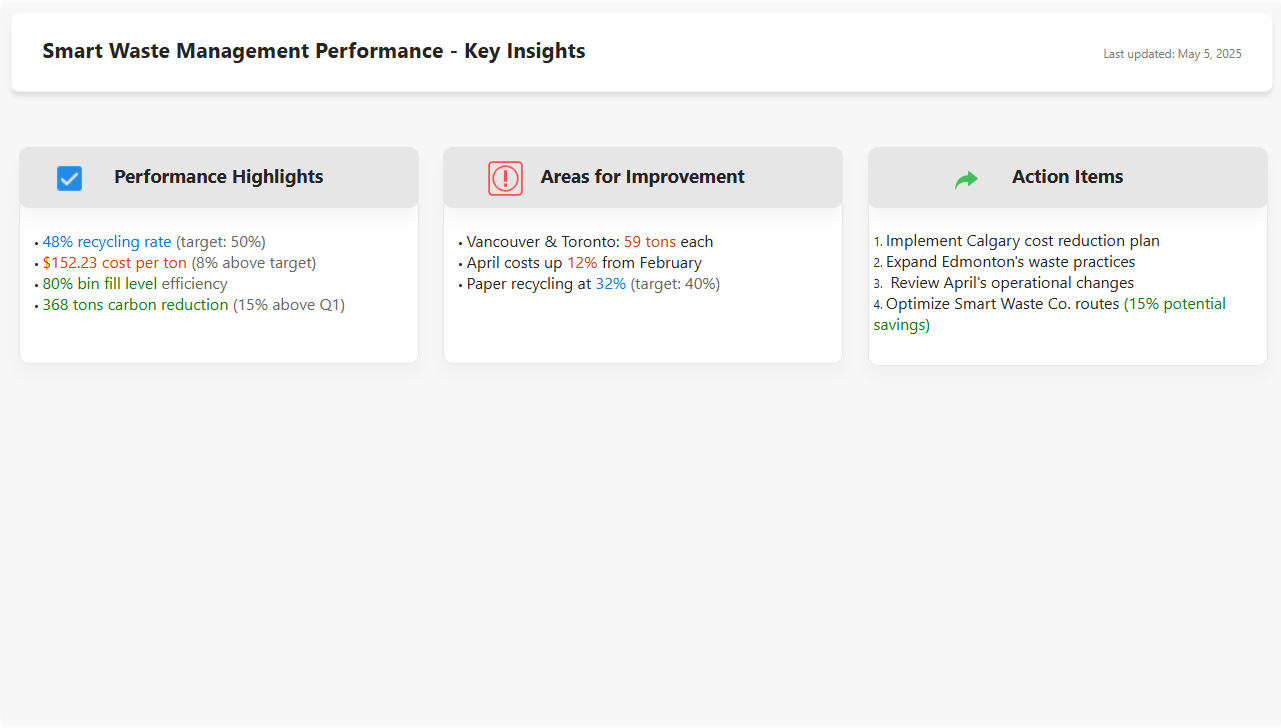

Layout of this report page (visuals, bound fields, positions):
{"tool":"powerbi","page":{"name":"Key Insights","canvas":[1280,720],"ordinal":1},"visuals":[{"type":"shape","box":[0,0,1280,97.1],"z":0},{"type":"textbox","box":[35.7,25.7,1230,47.1],"z":1000},{"type":"textbox","box":[17.1,193.3,400,167.1],"z":2000},{"type":"textbox","box":[441.4,193.3,400,167.1],"z":3000},{"type":"textbox","box":[865.7,191.9,400,170],"z":4000},{"type":"textbox","box":[17.1,142.9,400,61.4],"z":5000},{"type":"textbox","box":[865.7,142.9,400,61.4],"z":6000},{"type":"textbox","box":[441.4,142.9,400,61.4],"z":7000},{"type":"image","box":[920,155.7,90,37.1],"z":7001},{"type":"image","box":[441.4,148.6,124.3,51.4],"z":7002},{"type":"image","box":[17.1,152.9,101.4,42.9],"z":7003}]}

Visuals, with their boxes in screenshot pixels (x1, y1, x2, y2), scaled from the page's 1280x720 canvas onto the 1281x728 screenshot:
shape: [0, 0, 1280, 98]
textbox: [36, 26, 1267, 74]
textbox: [17, 195, 417, 364]
textbox: [442, 195, 842, 364]
textbox: [866, 194, 1267, 366]
textbox: [17, 144, 417, 207]
textbox: [866, 144, 1267, 207]
textbox: [442, 144, 842, 207]
image: [921, 157, 1011, 195]
image: [442, 150, 566, 202]
image: [17, 155, 119, 198]
